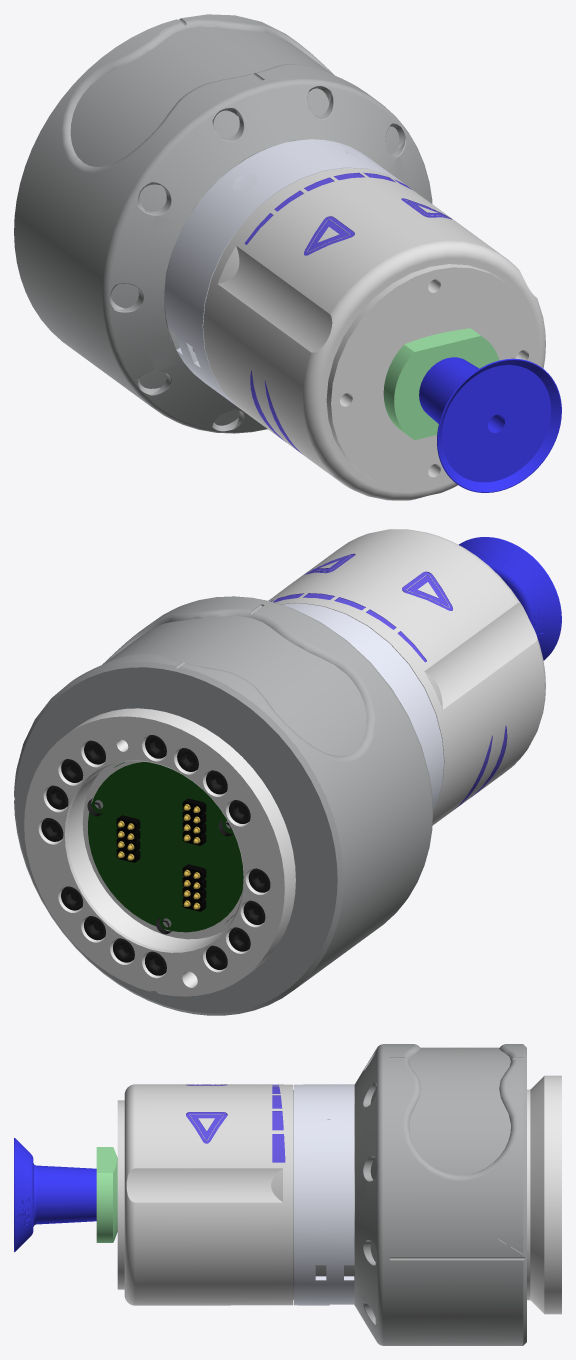
The model's file is 0801_E-Schmalz-ECBPMi.glb.
3 views of the same model, one above another, from view 1: azimuth 30°, elevation 25°; view 2: azimuth 150°, elevation 25°; view 3: azimuth 270°, elevation 25° (orthographic). The views are drawn at different scales.
Parts seen in each view (by area): view 1: 0801_E-Schmalz-ECBPMi.001; view 2: 0801_E-Schmalz-ECBPMi.001; view 3: 0801_E-Schmalz-ECBPMi.001.
Boxes of the visible parts, left/top/right/bottom form: 0801_E-Schmalz-ECBPMi.001: left=14, top=14, right=561, bottom=500; 0801_E-Schmalz-ECBPMi.001: left=14, top=529, right=561, bottom=1015; 0801_E-Schmalz-ECBPMi.001: left=14, top=1044, right=561, bottom=1345.
Size of the model in its own units: 0.086 by 0.086 by 0.156.
